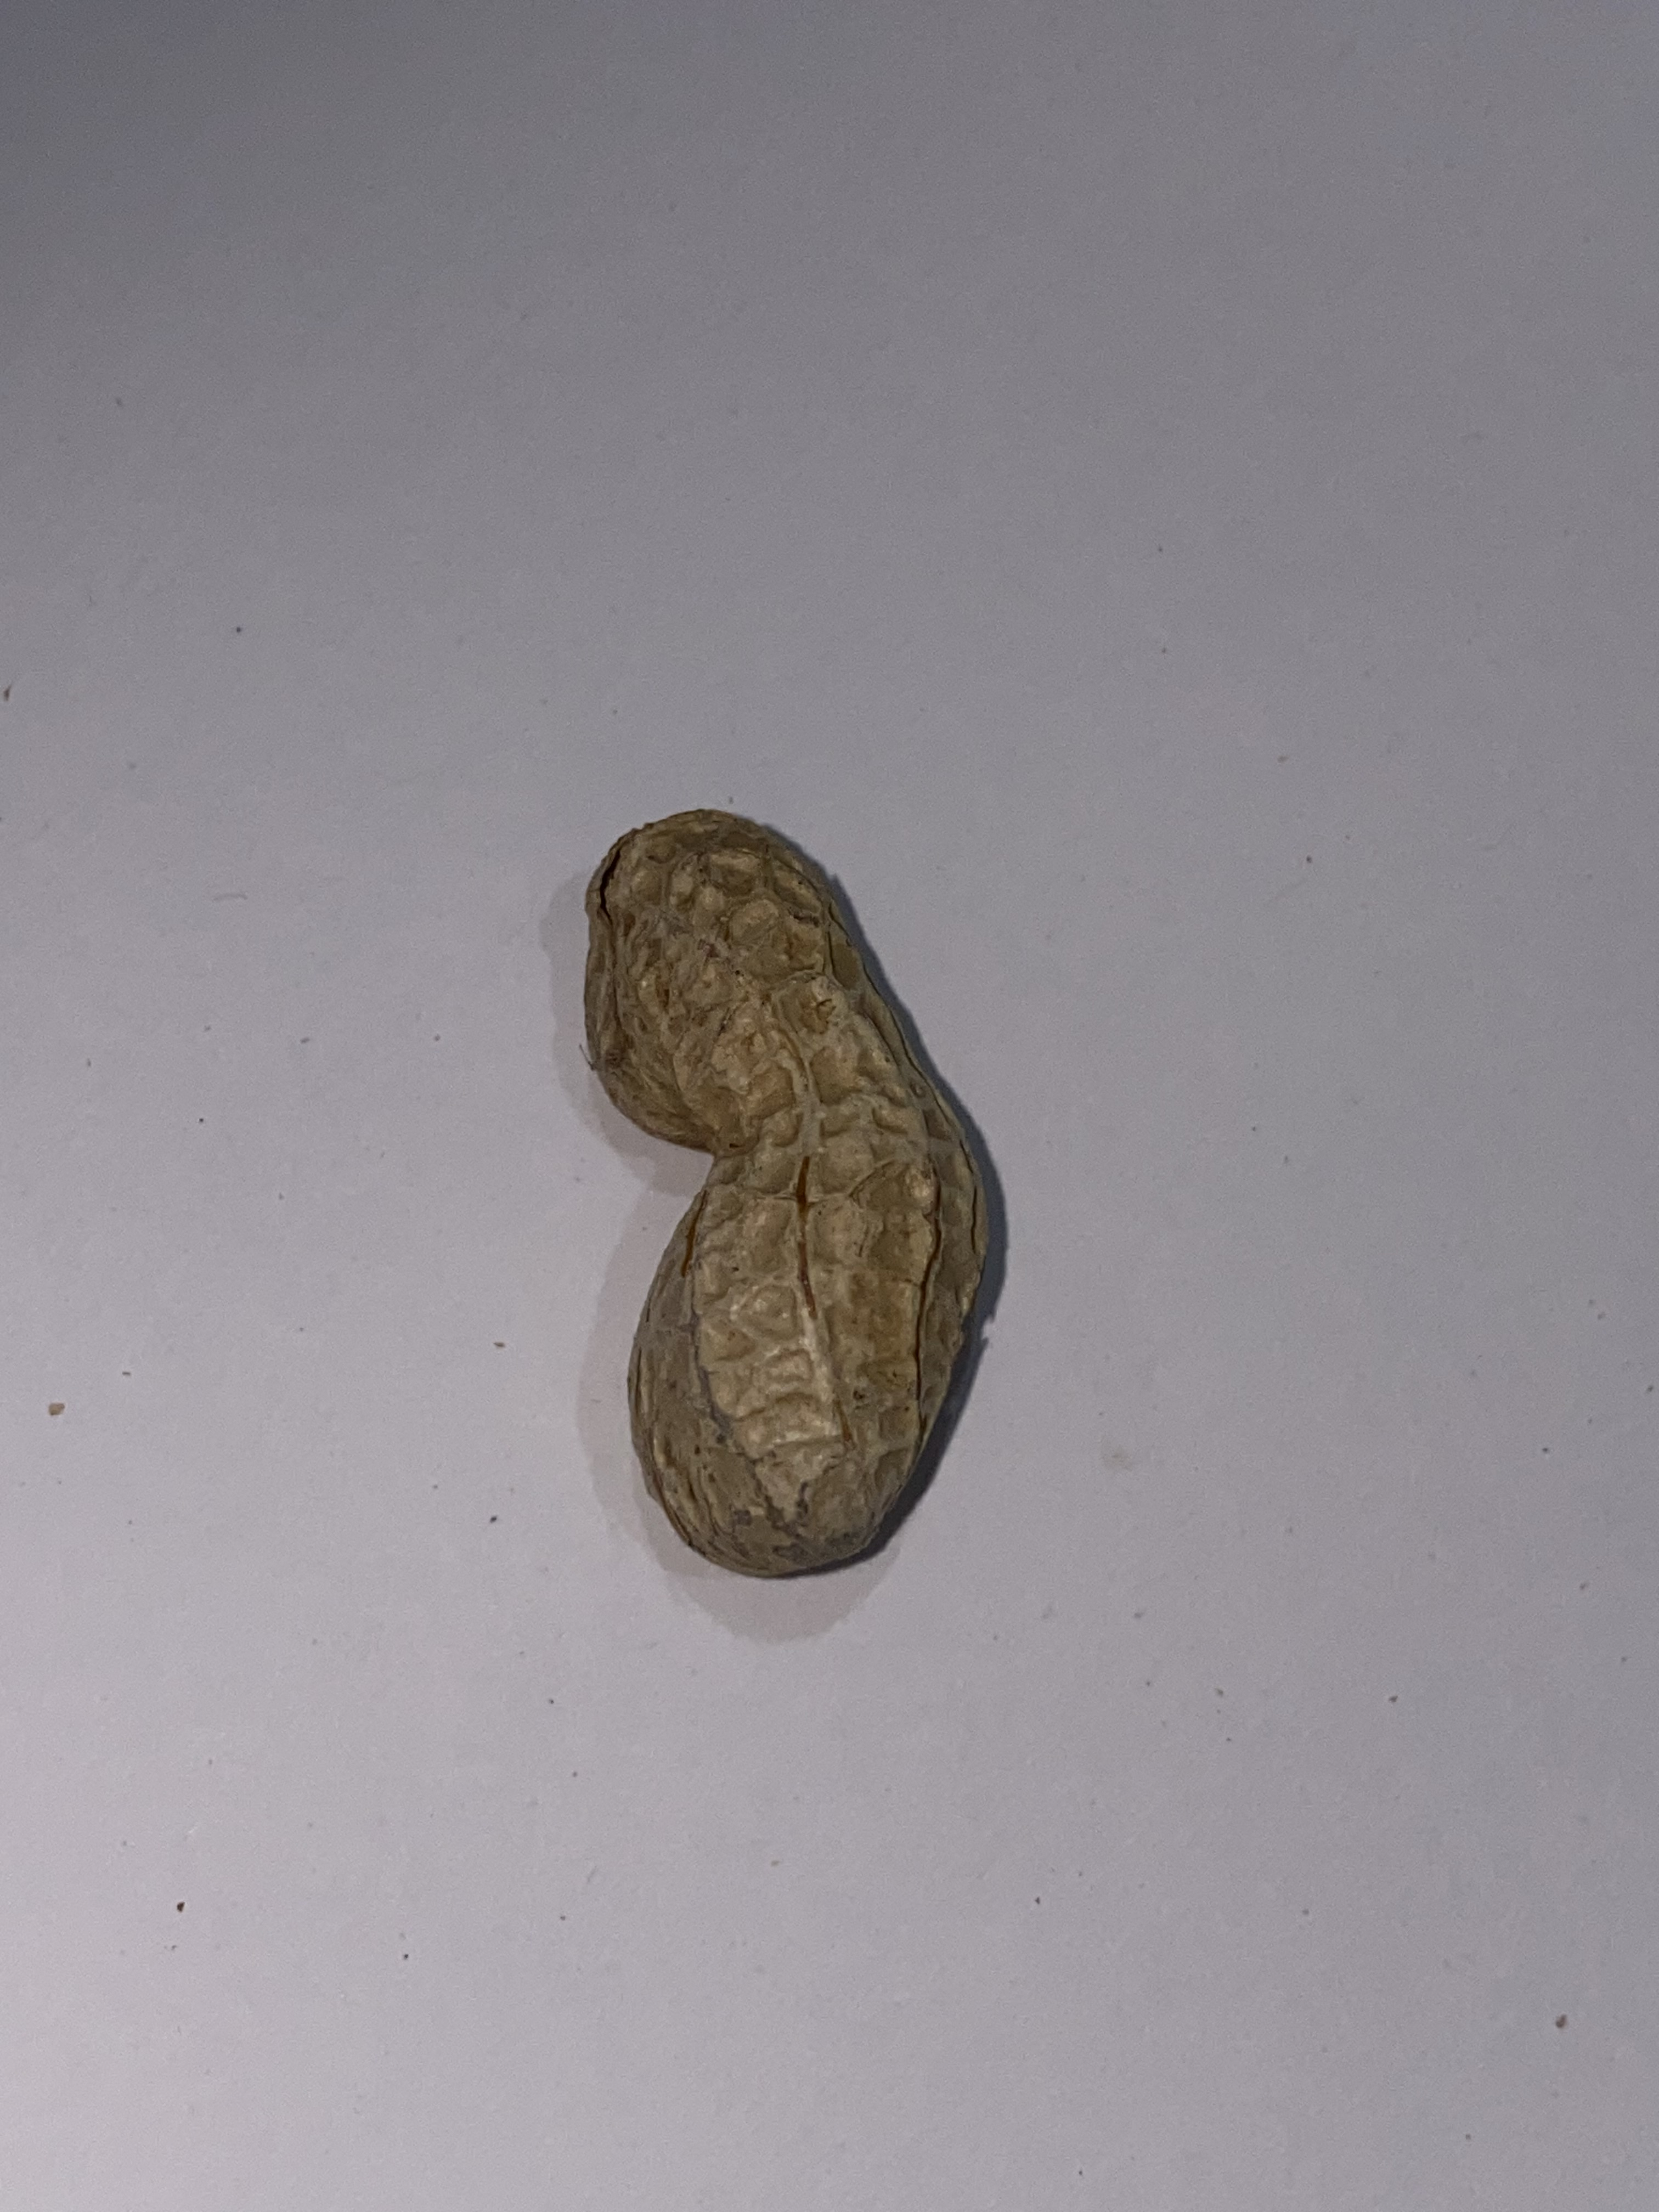kacang2: (549, 812, 1019, 1583)
